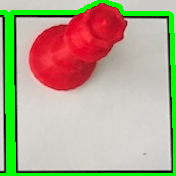Red Queen: (25, 2, 130, 96)
